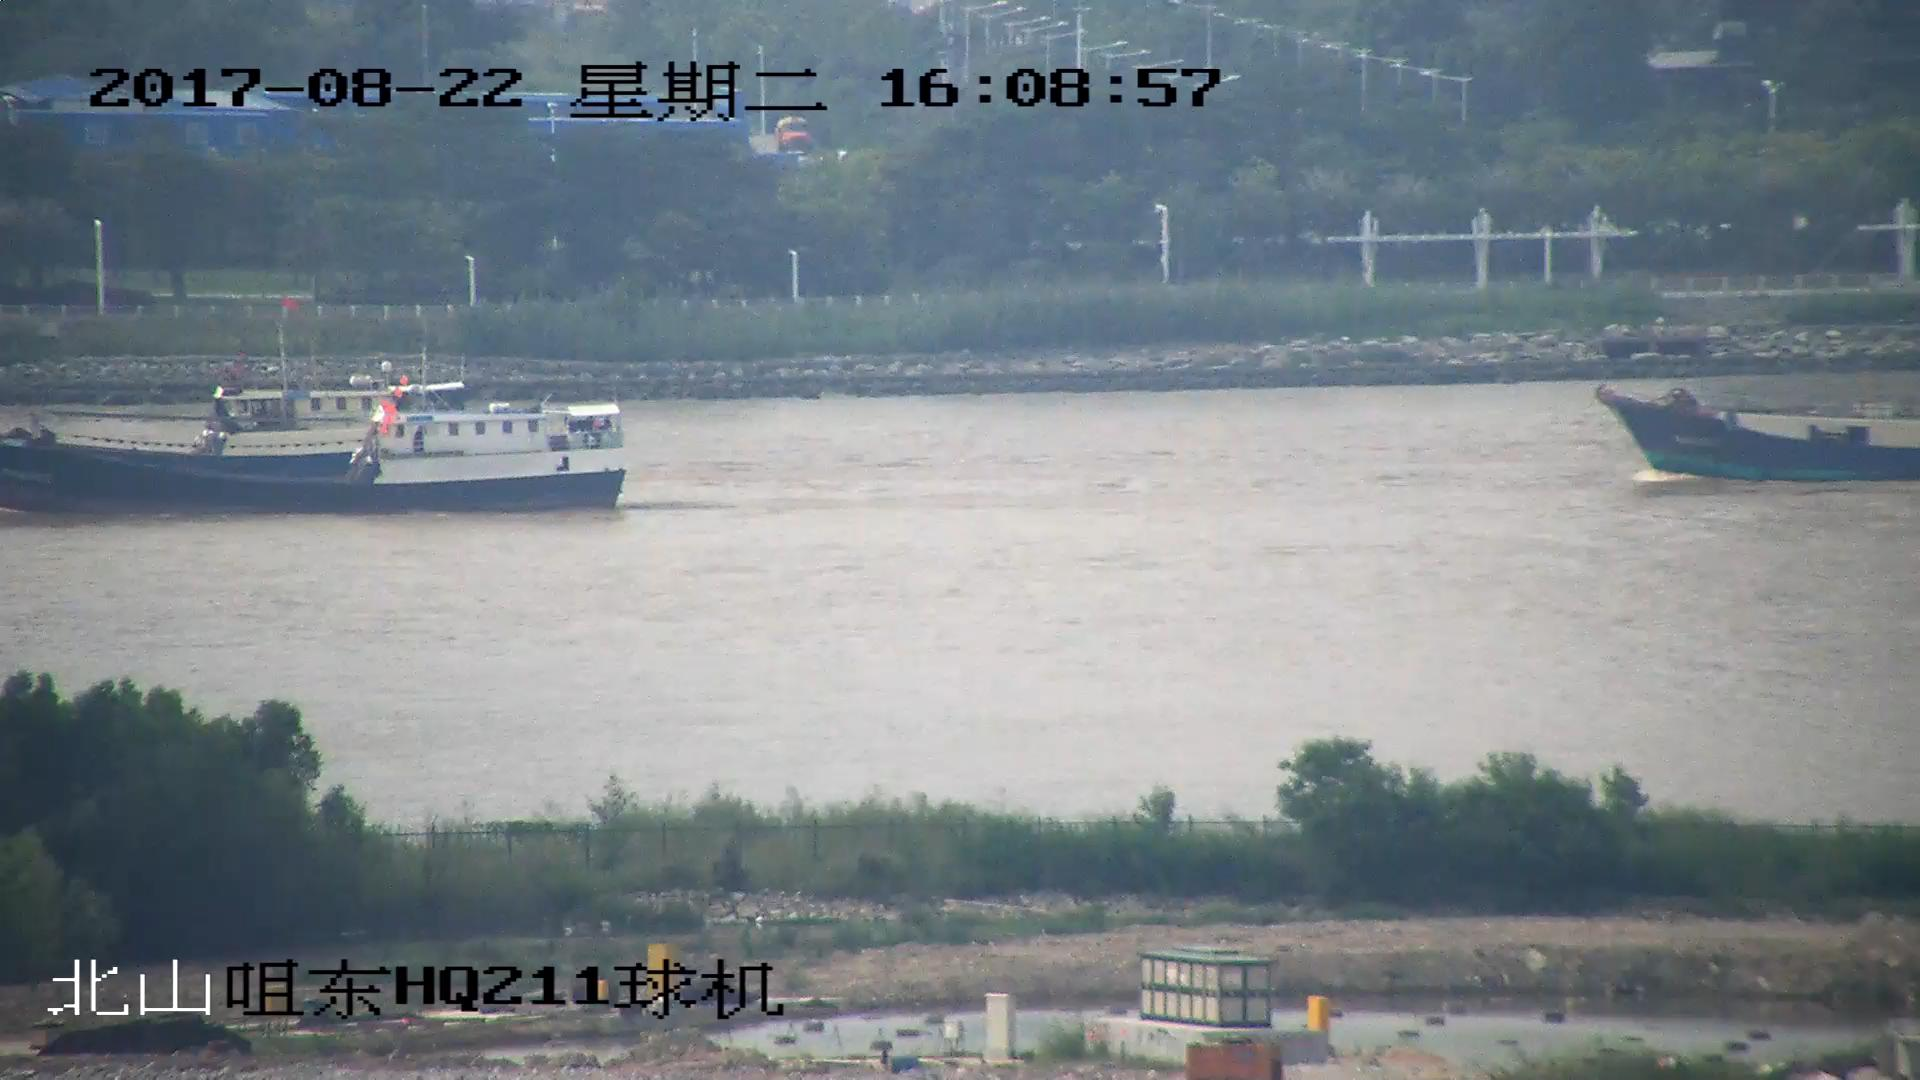fishing boat: (1, 371, 631, 516), (1, 305, 472, 467), (1601, 386, 1920, 482)
